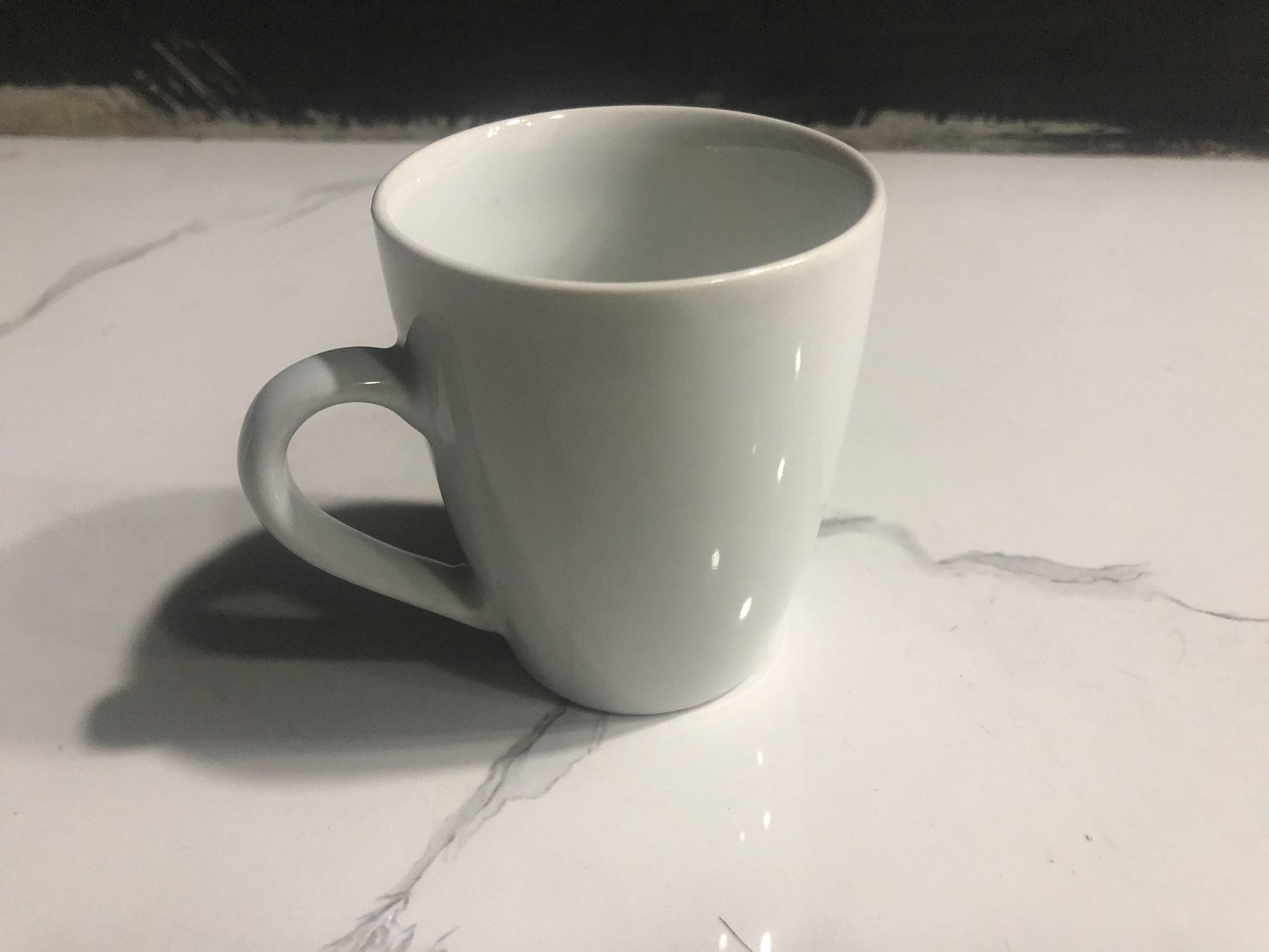cup-handle: (235, 102, 890, 721)
